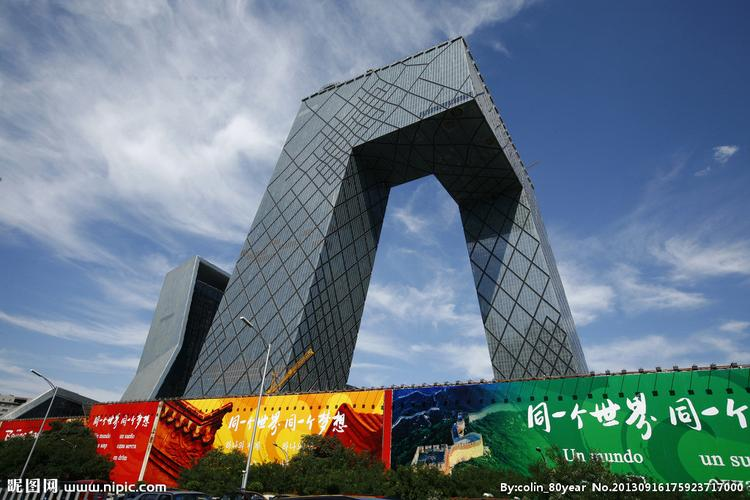buildings: (152, 74, 611, 411)
